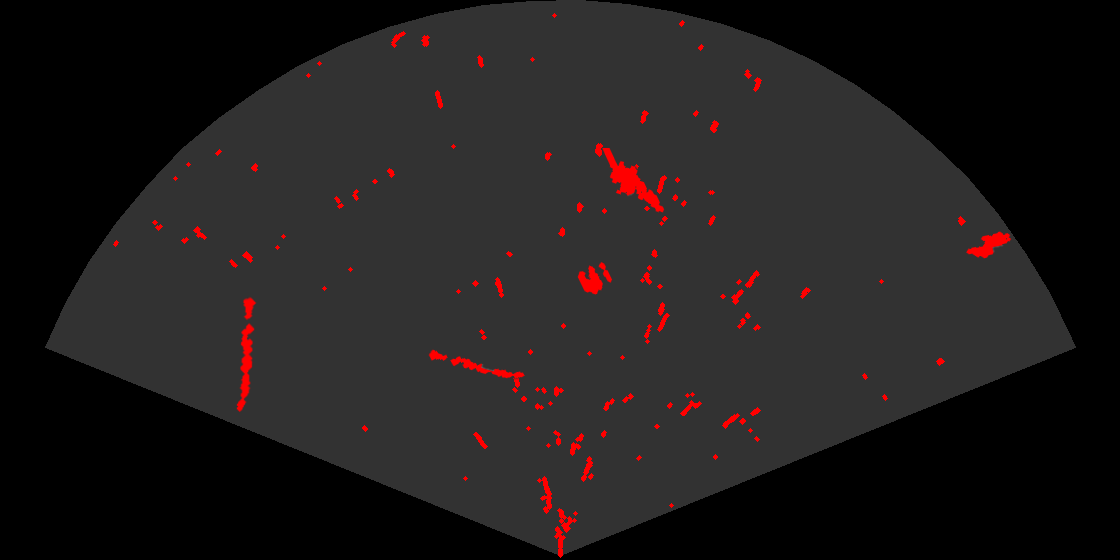AUV: (965, 230, 1013, 260)
ball: (576, 260, 614, 296)
chain: (426, 348, 526, 380), (235, 296, 258, 414)
frogman: (601, 148, 666, 214)
